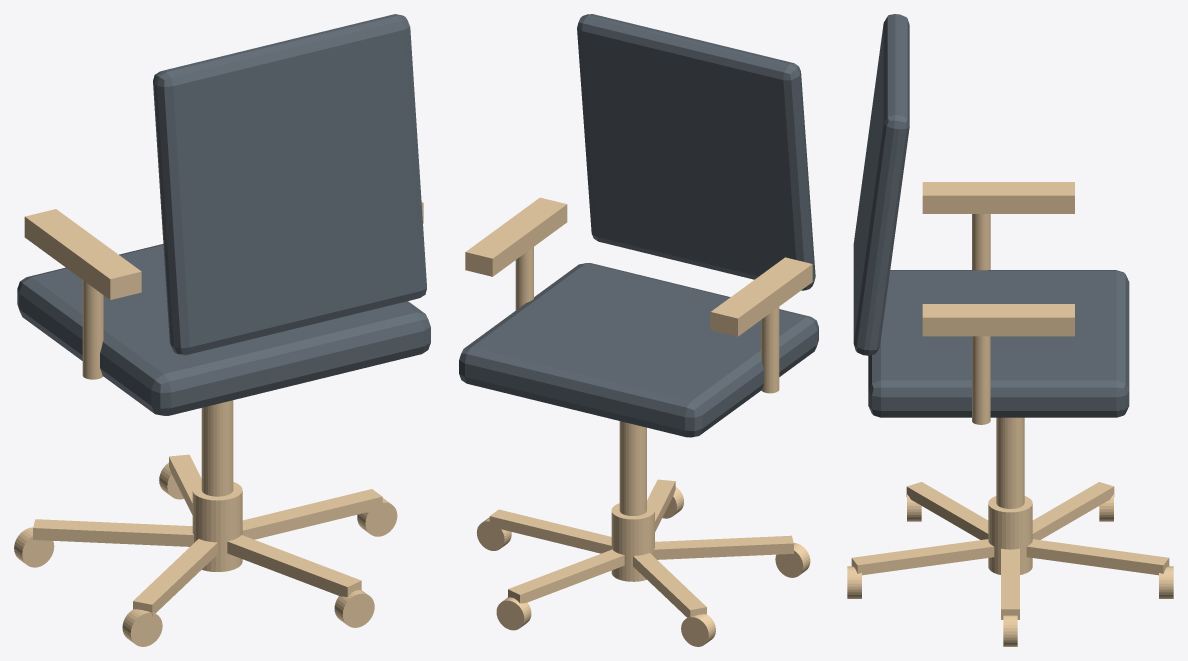
The model's file is ai.chair-task.glb.
The picture shows the model from 3 angles, left to right: view 1: azimuth 30°, elevation 25°; view 2: azimuth 150°, elevation 25°; view 3: azimuth 270°, elevation 25°; orthographic projection. The views are drawn at different scales.
Parts seen in each view (by area): view 1: Hero_Asset; view 2: Hero_Asset; view 3: Hero_Asset.
Boxes of the visible parts, left/top/right/bottom form: Hero_Asset: left=14, top=14, right=430, bottom=646; Hero_Asset: left=459, top=14, right=818, bottom=646; Hero_Asset: left=847, top=14, right=1173, bottom=646.
Size of the model in its own units: 0.5735 by 0.95 by 0.549.
